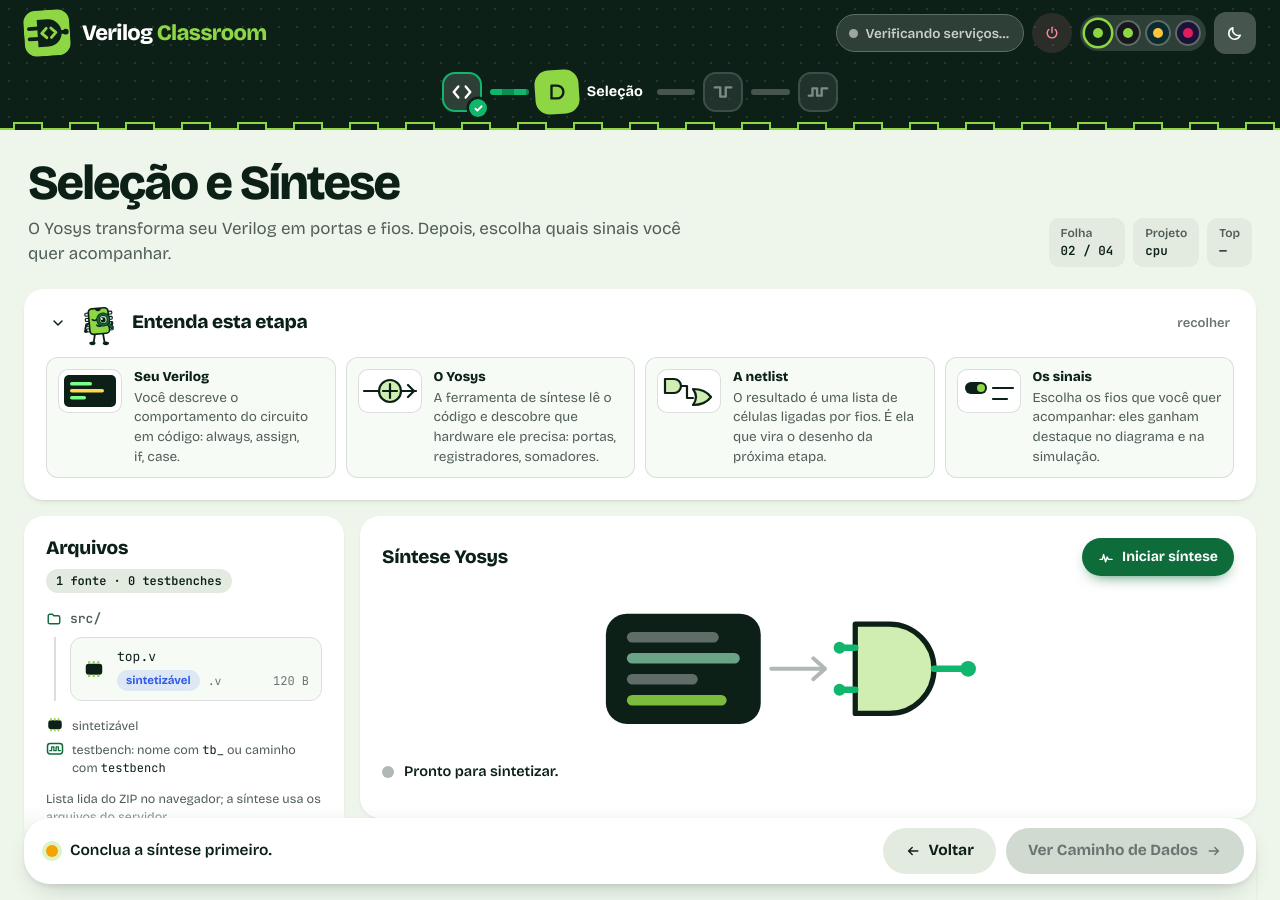
Test case: Tela 2b — escolha explícita do top (#27) › backend devolvendo top diferente do pedido é erro e bloqueia o avanço
This screenshot has width=1280, height=900.
Click the button "Iniciar síntese". click: (1158, 557)
box: [1082,538,1234,576]
(page scrolled)
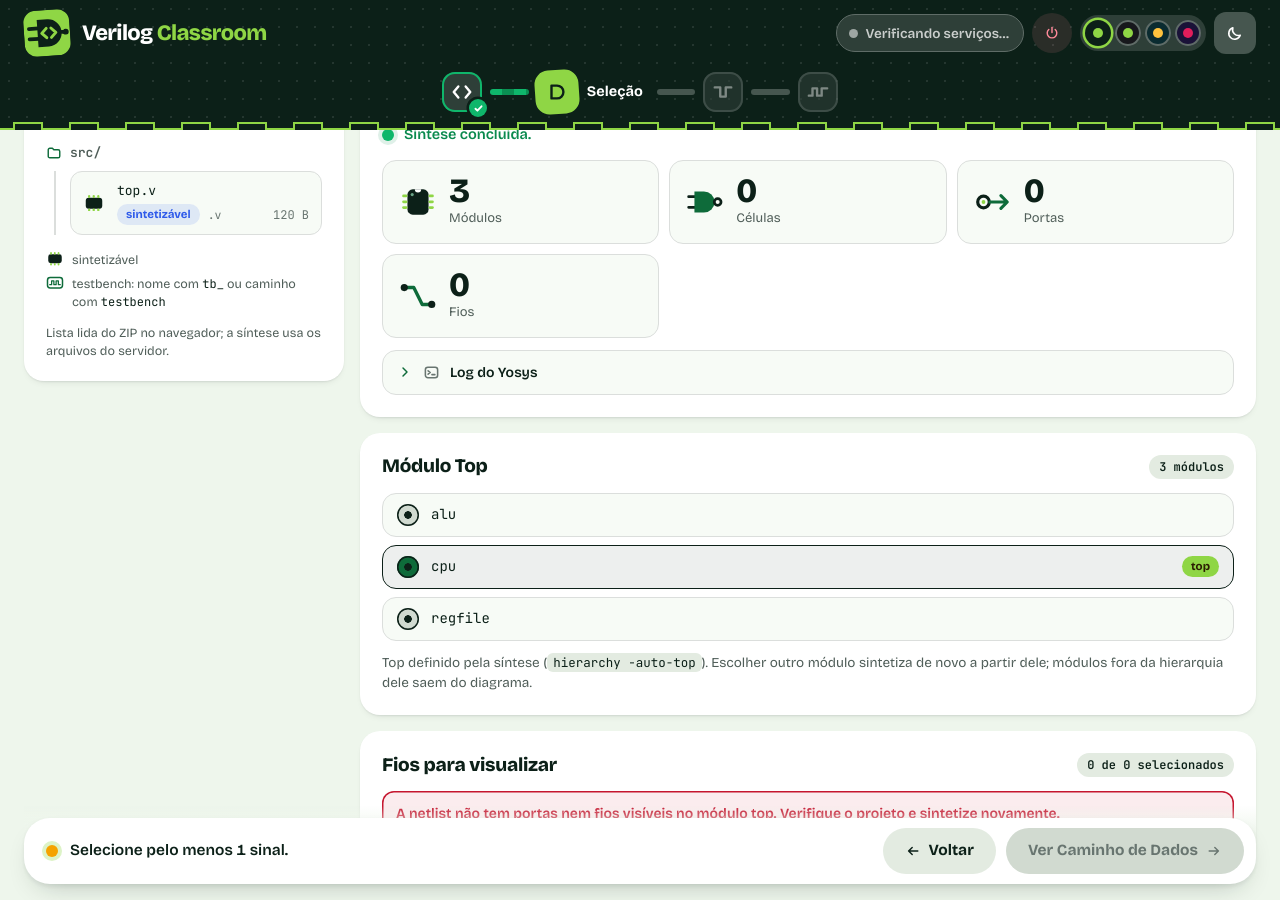
Expected: the list named "Módulos encontrados na netlist" is shown, [382,492,1234,640]
Click the radio button labelled "alu". click: (408, 514)
box: [397,504,419,526]
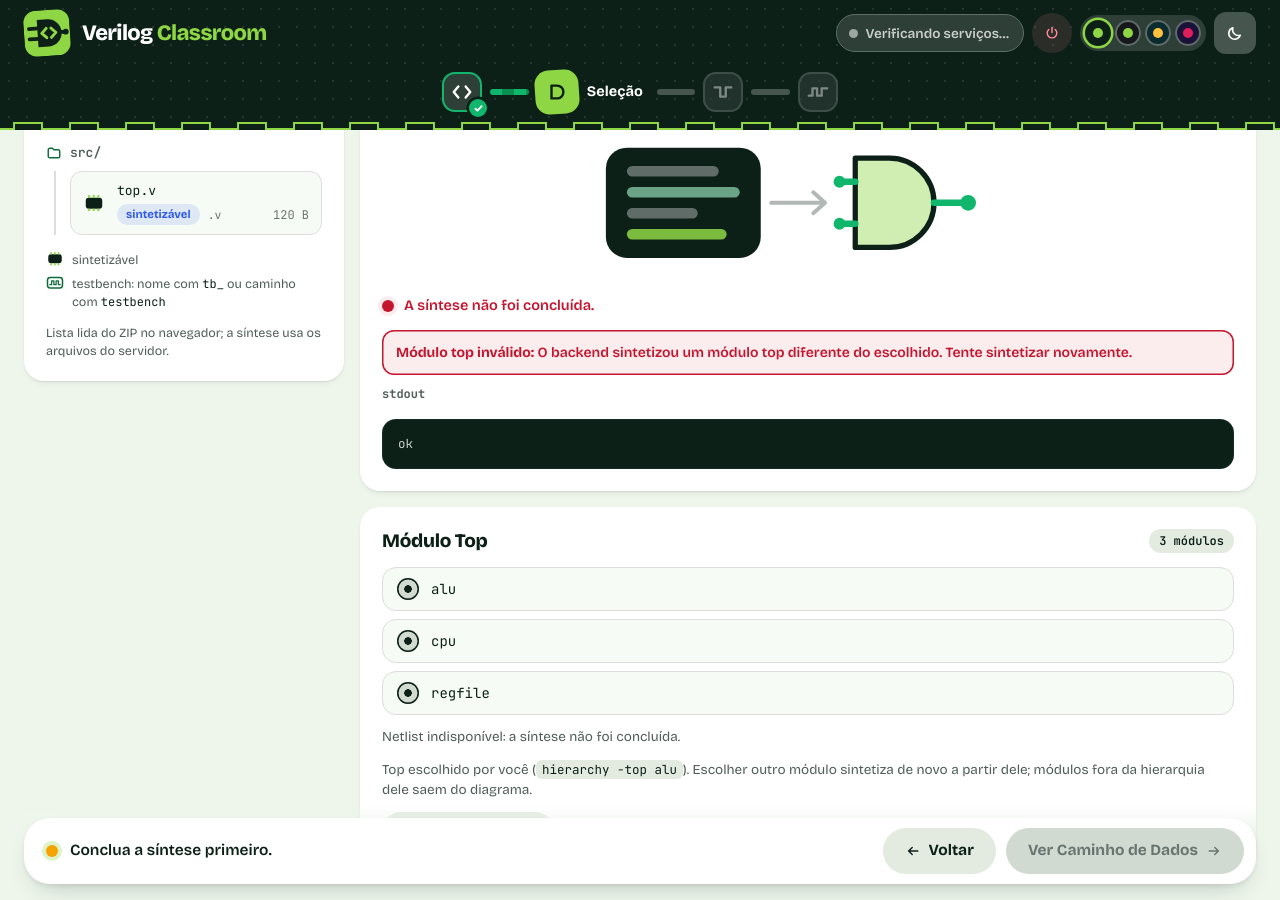
Expected: the button "Ver Caminho de Dados" is disabled, [1006,828,1244,874]
Expected: the message that starts with "Módulo top inválido" shows "O backend sintetizou um módulo top diferente do escolhido. Tente sintetizar novamente.", [538,344,1132,361]
